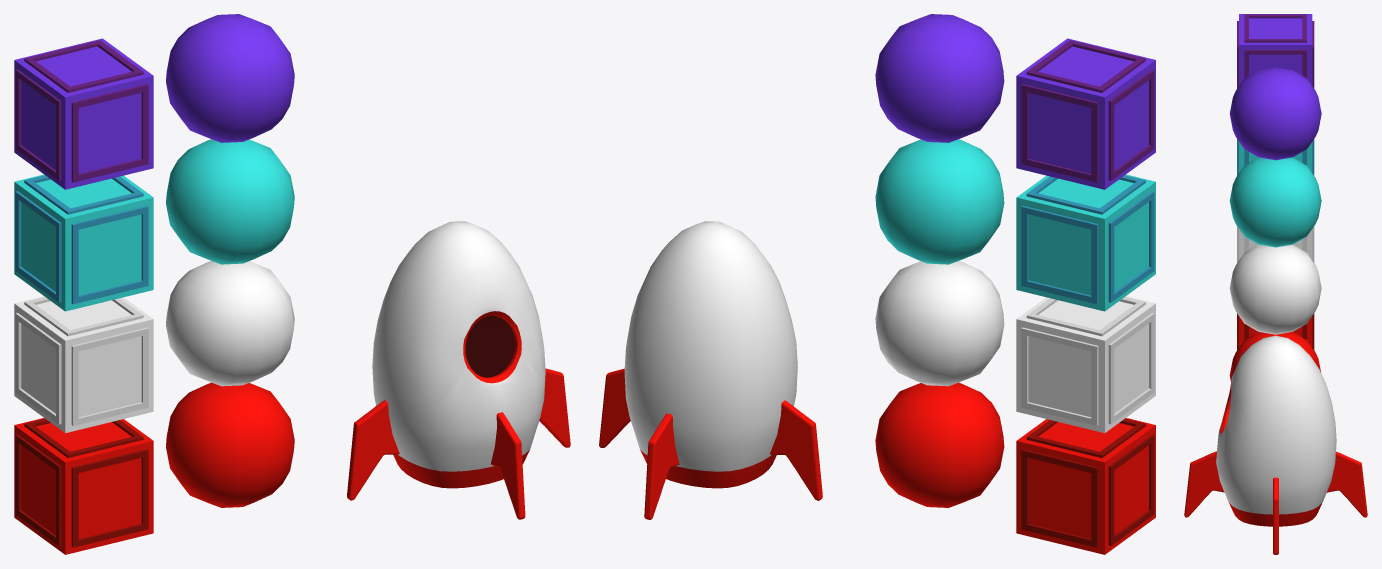
File: cosmo.fbx
The picture shows the model from 3 angles, left to right: view 1: azimuth 30°, elevation 25°; view 2: azimuth 150°, elevation 25°; view 3: azimuth 270°, elevation 25°; orthographic projection. The views are drawn at different scales.
Visible parts, largest first — view 1: Cube.002, Cube.007, Cube.005, Cube, Cube.003, Cube.008, Cube.004, Cube.006, Cube.001; view 2: Cube.002, Cube.007, Cube.005, Cube.003, Cube, Cube.008, Cube.006, Cube.001, Cube.004; view 3: Cube.002, Cube.008, Cube.006, Cube.004, Cube.007, Cube.001, Cube, Cube.003, Cube.005.
Part boxes in pixels (box(x1,y1,x2,y2)): Cube.002: box(347, 221, 570, 519); Cube.007: box(14, 38, 153, 189); Cube.005: box(14, 174, 153, 311); Cube: box(14, 418, 153, 554); Cube.003: box(14, 296, 153, 433); Cube.008: box(166, 14, 294, 142); Cube.004: box(166, 261, 294, 386); Cube.006: box(166, 139, 294, 264); Cube.001: box(166, 382, 294, 507); Cube.002: box(599, 221, 822, 519); Cube.007: box(1016, 38, 1155, 189); Cube.005: box(1016, 174, 1155, 311); Cube.003: box(1016, 296, 1155, 433); Cube: box(1016, 418, 1155, 554); Cube.008: box(875, 14, 1004, 142); Cube.006: box(875, 139, 1004, 264); Cube.001: box(875, 382, 1004, 507); Cube.004: box(875, 261, 1004, 386); Cube.002: box(1184, 335, 1367, 554); Cube.008: box(1229, 67, 1321, 160); Cube.006: box(1229, 157, 1321, 247); Cube.004: box(1229, 244, 1321, 334); Cube.007: box(1237, 14, 1314, 88); Cube.001: box(1229, 332, 1320, 382); Cube: box(1237, 313, 1314, 349); Cube.003: box(1237, 226, 1314, 262); Cube.005: box(1237, 139, 1314, 175).
Size of the model in its own units: 5.75 by 5.25 by 2.39.
